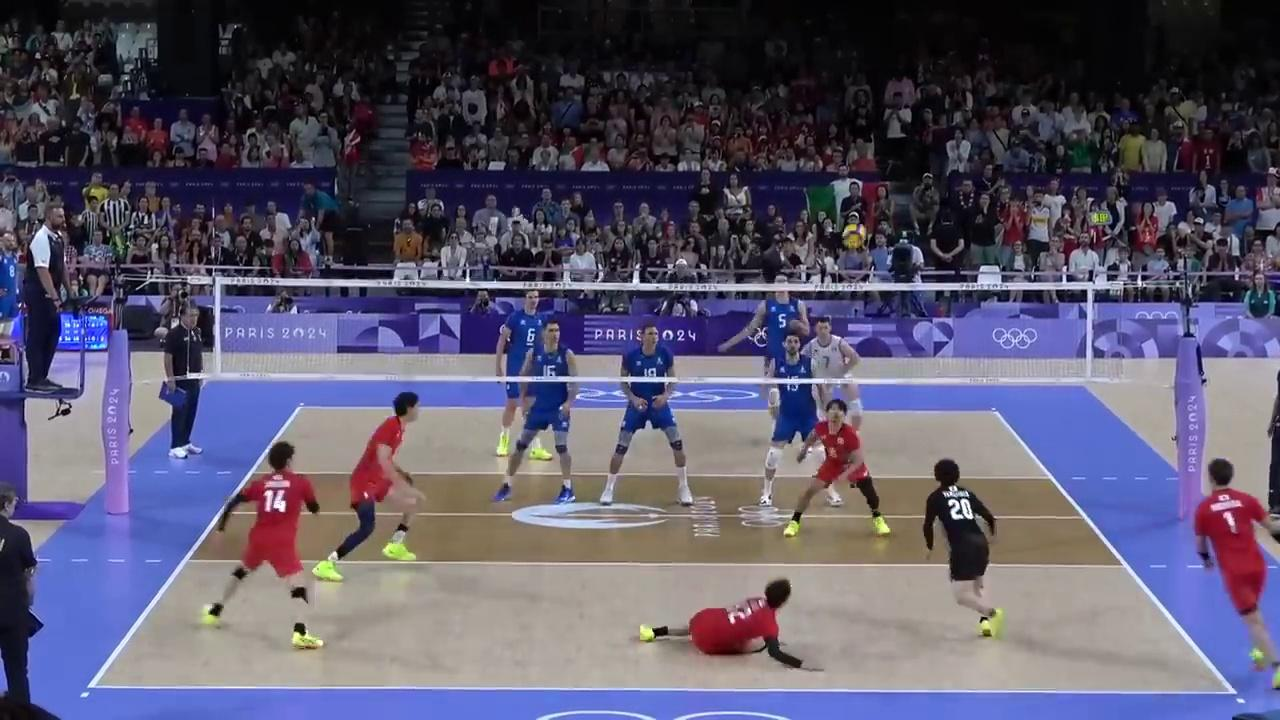ball: (842, 223, 865, 247)
